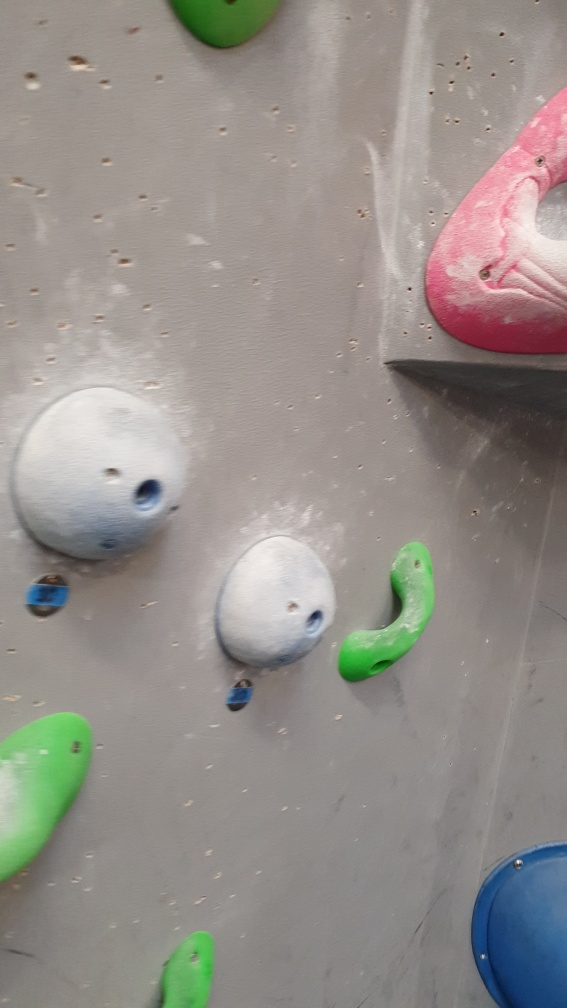Hand Start: (22, 567, 75, 631), (223, 676, 256, 715)
Pocket: (417, 84, 567, 357)
Sloper: (13, 379, 188, 557), (219, 530, 336, 682)
